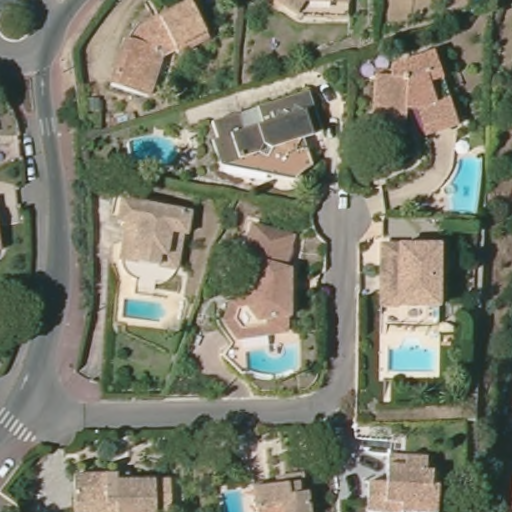pool: (443, 152, 486, 215), (124, 132, 185, 168), (243, 343, 301, 377), (385, 338, 440, 373), (118, 297, 172, 326), (220, 486, 246, 510)
